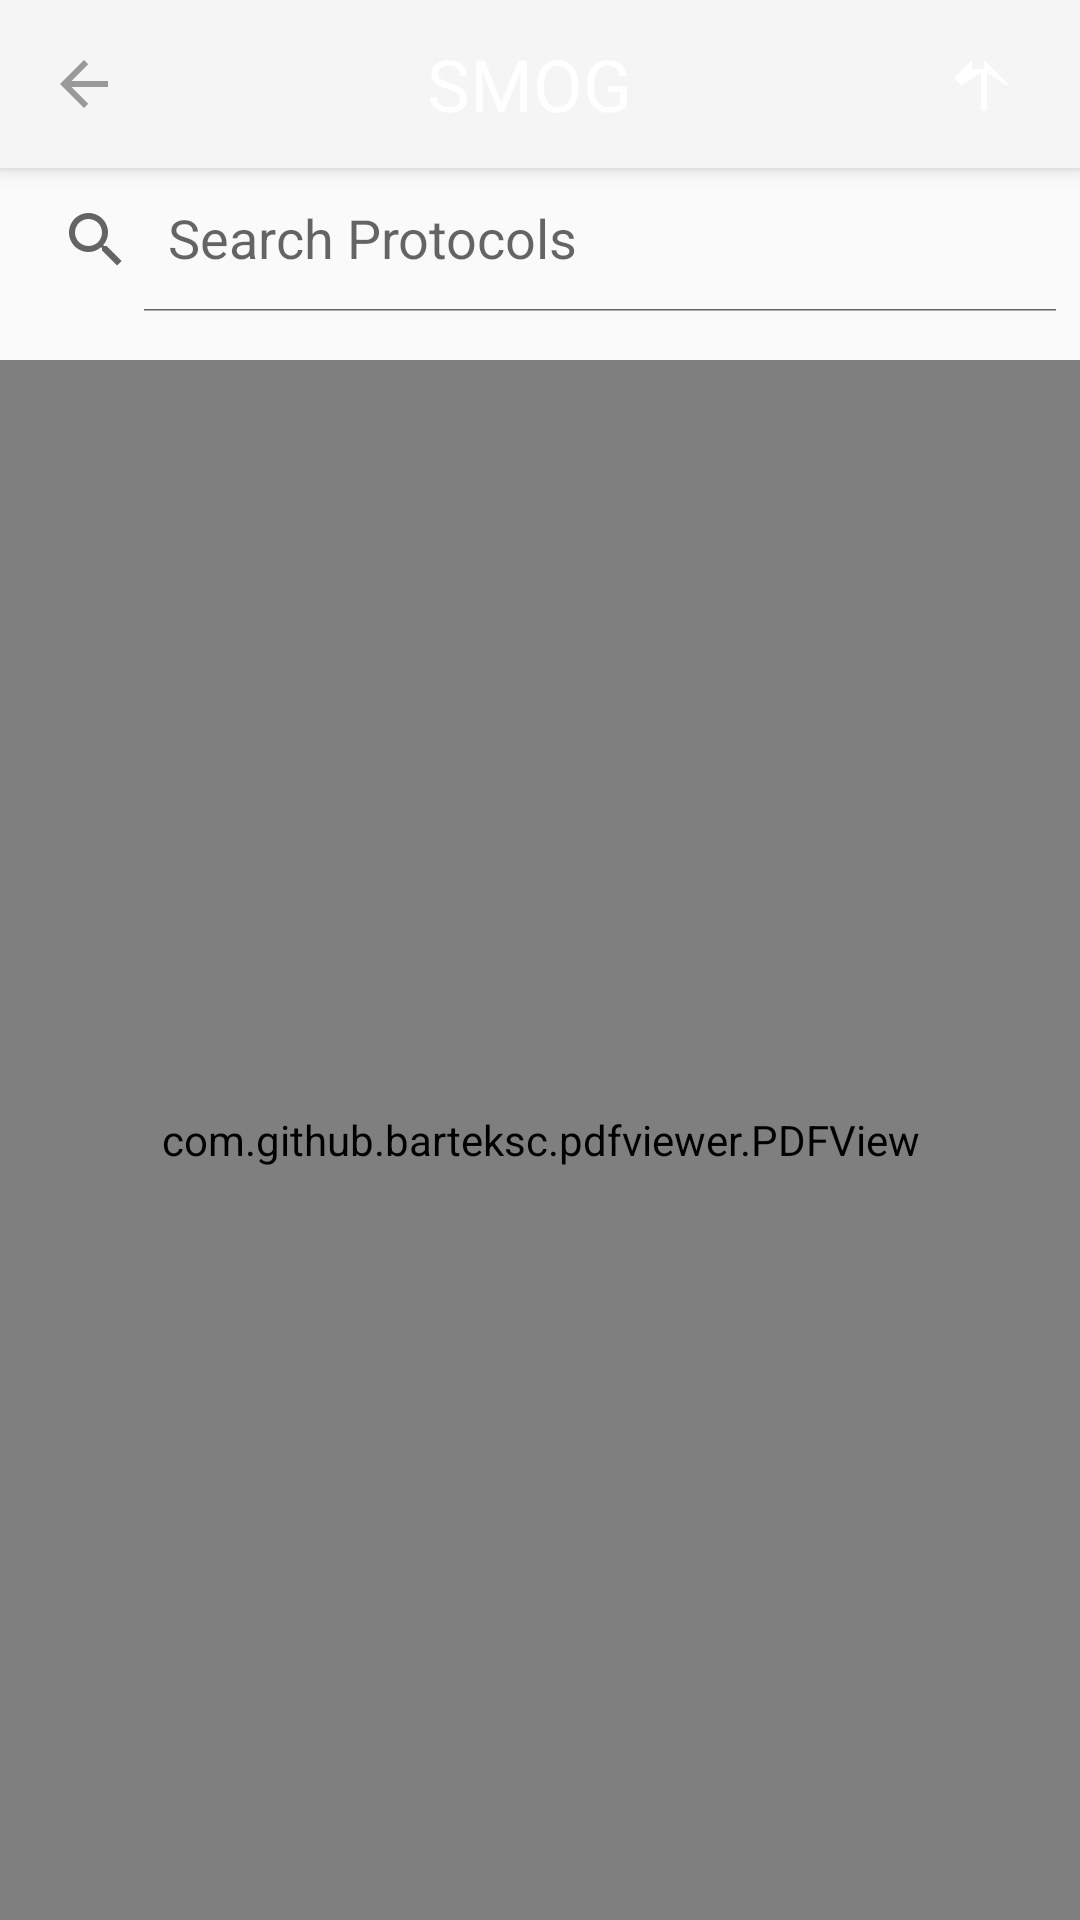

Named icons in this screenshot (1080*1920) and their centers, (x,y):
Back: (84,84)
